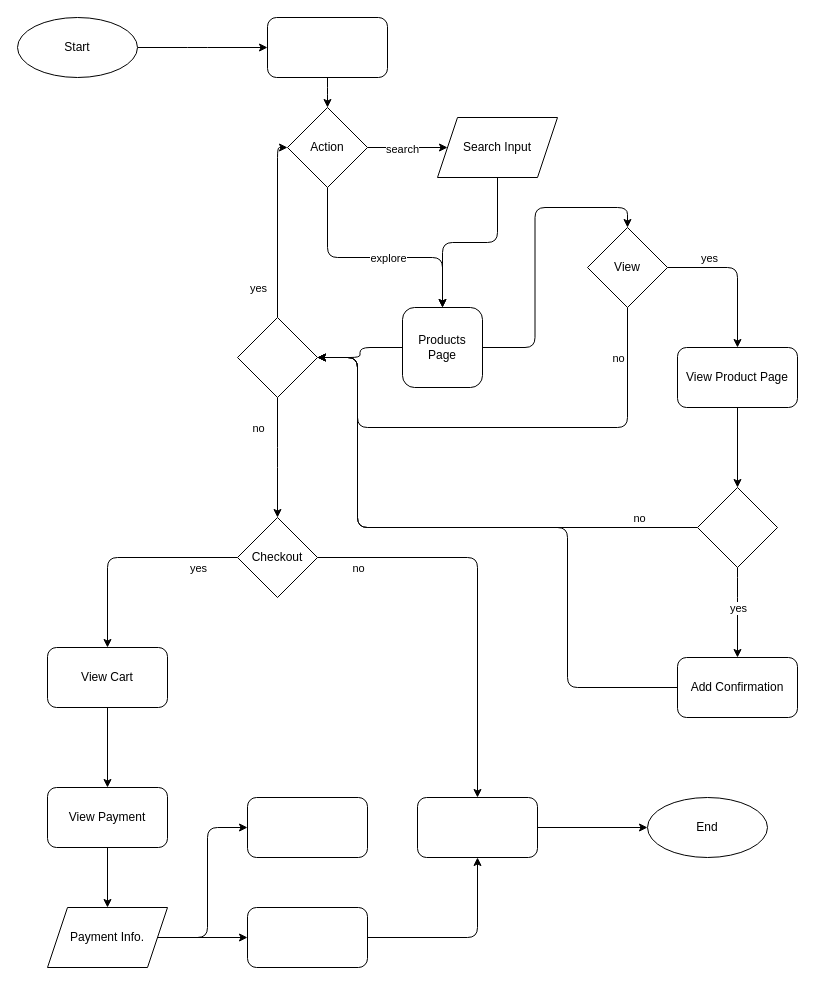
Some shapes in this 815 by 985 pixel diagram are drawn without their labels. Here are the shapes that lost their labels. From the top down, the box of each, then its label:
(266, 16, 388, 78): User entering website
(236, 316, 318, 398): Continue
(696, 486, 778, 568): Add To Cart
(246, 796, 368, 858): Email Confirmation
(416, 796, 538, 858): User leaving website
(246, 906, 368, 968): Confirmation Screen
